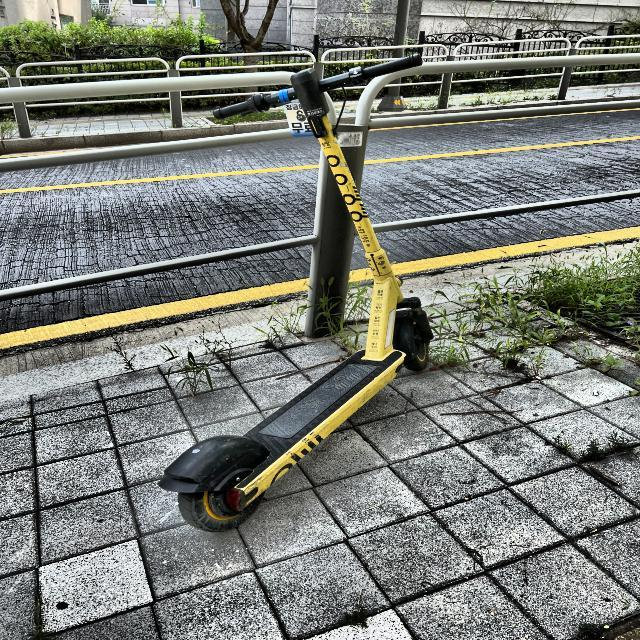bike: (158, 48, 435, 534)
